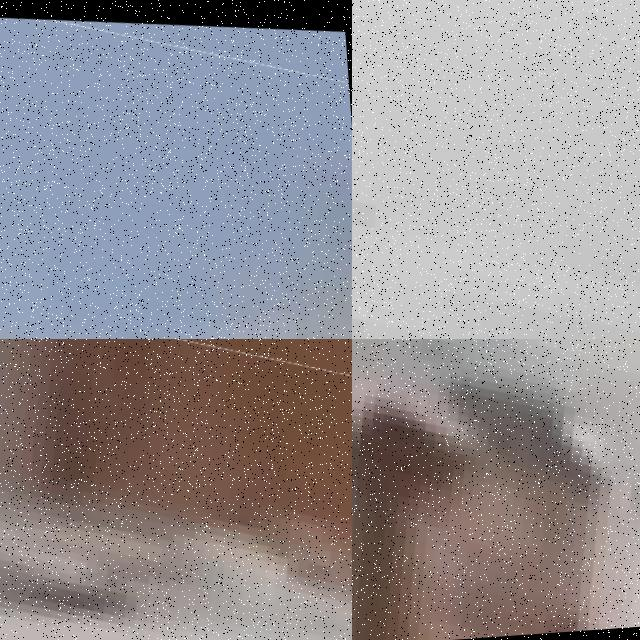drone: (0, 0, 352, 339), (0, 339, 352, 640), (352, 0, 640, 339), (352, 339, 640, 640)
